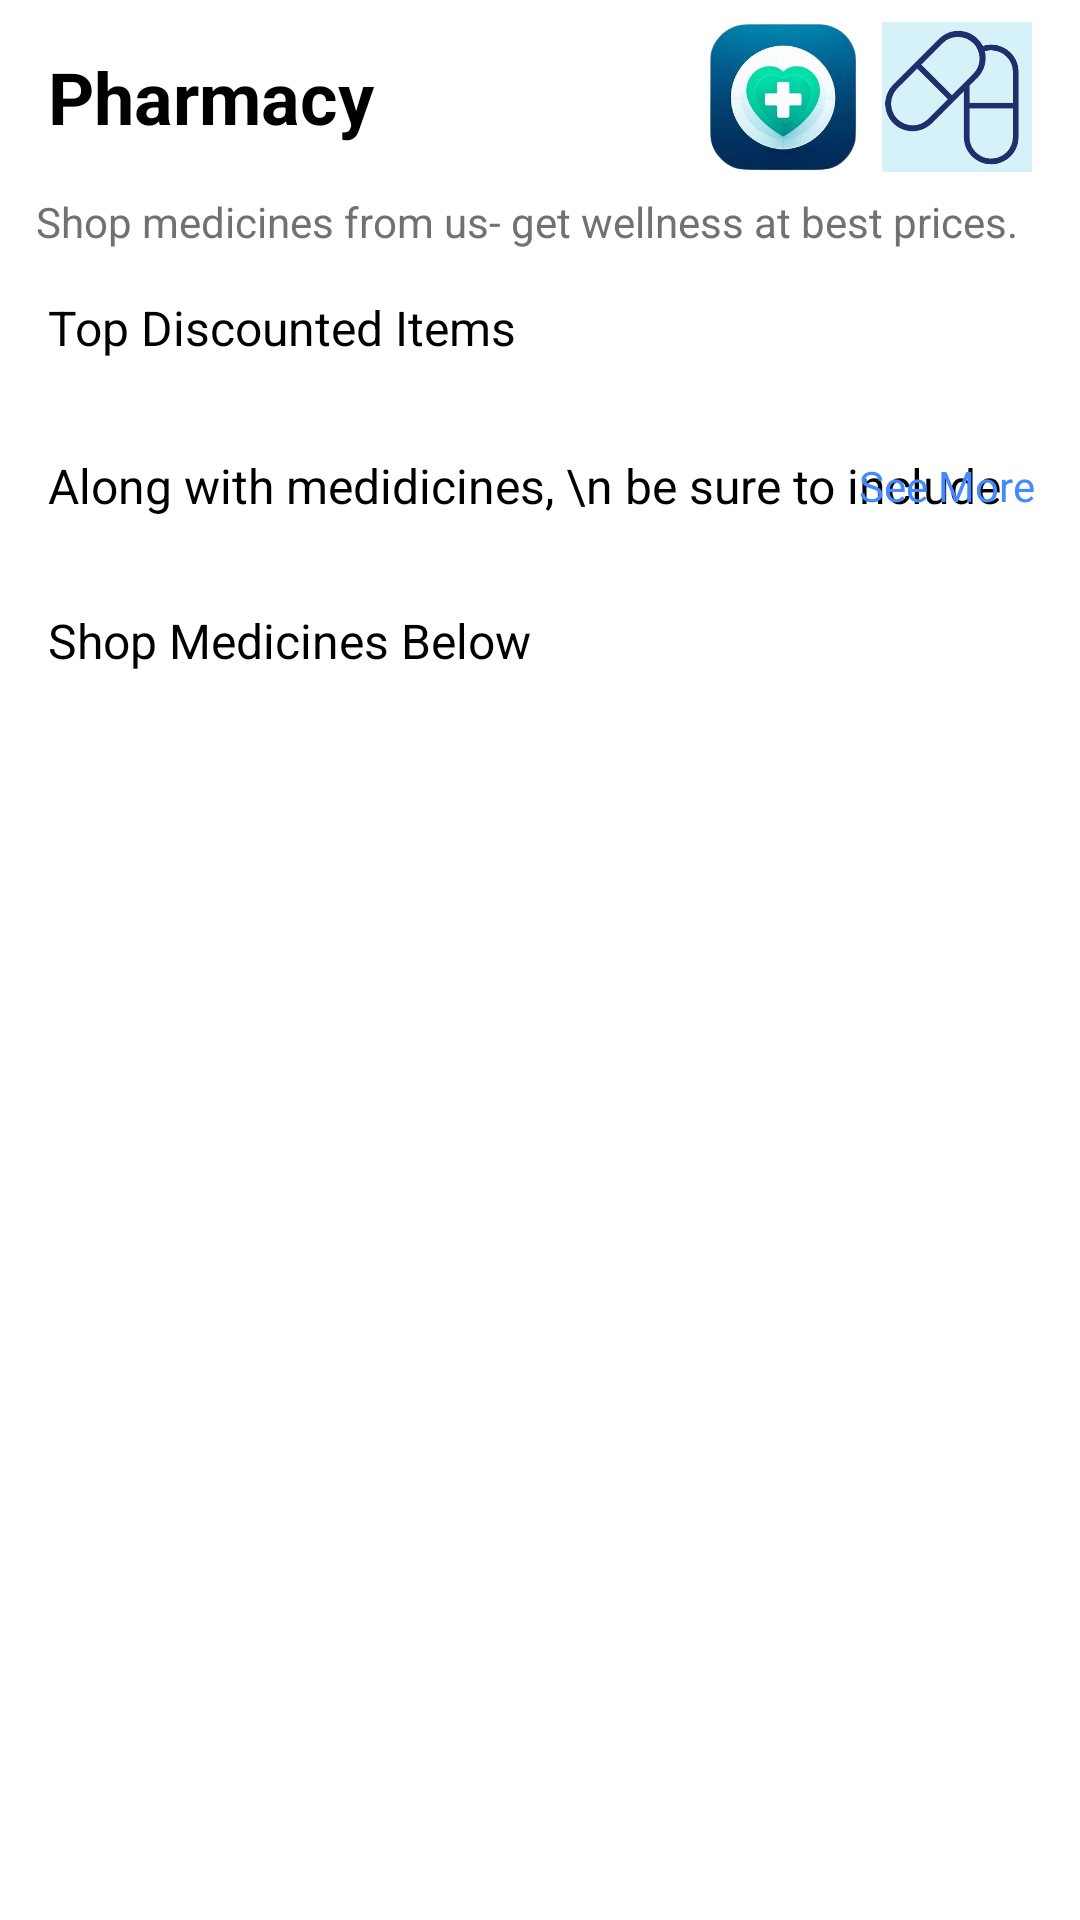

Where icons sit on this 1080 × 1920 app screen, as (x1, y1, x2, y2):
app: (710, 24, 856, 170)
